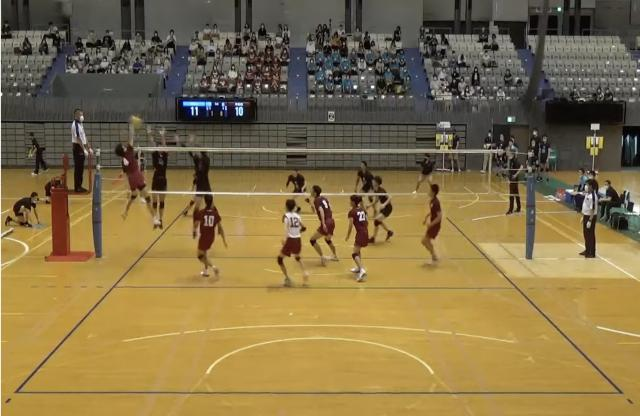spike: (112, 112, 160, 228)
